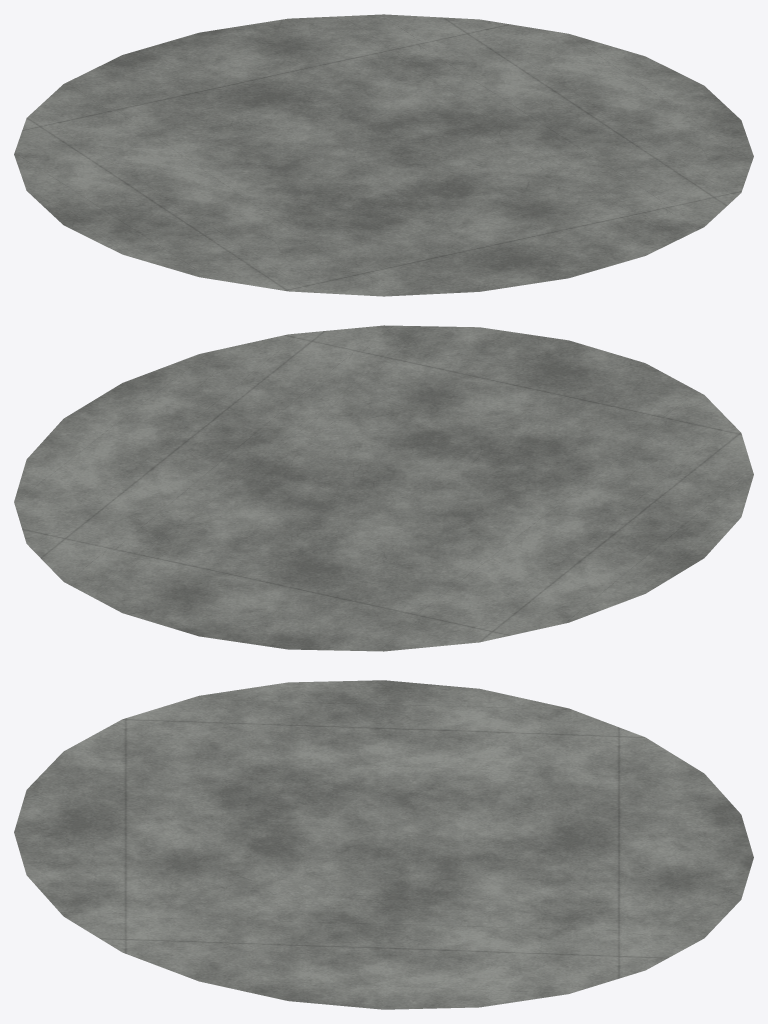
The model's file is INT-J-016.obj.
3 renders of one model, top to bottom at view 1: azimuth 30°, elevation 25°; view 2: azimuth 150°, elevation 25°; view 3: azimuth 270°, elevation 25°, orthographic.
Visible parts, largest first — view 1: INT-J-016; view 2: INT-J-016; view 3: INT-J-016.
Boxes of the visible parts, x1,y1,x2,y2 form: INT-J-016: (14, 14, 753, 296); INT-J-016: (14, 325, 753, 651); INT-J-016: (14, 680, 753, 1009).
Size of the model in its own units: 6 by 0.2737 by 6.
Materials: 1 (1 with a texture image).
